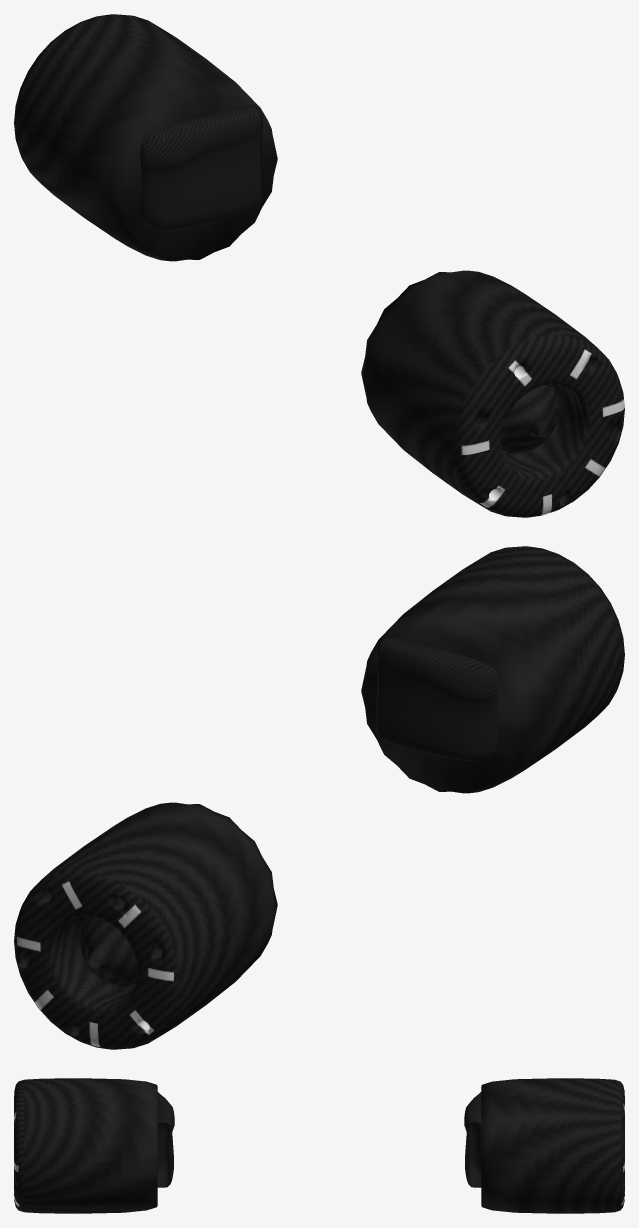
Rendered from WheelgyardR.fbx.
3 renders of one model, top to bottom at view 1: azimuth 30°, elevation 25°; view 2: azimuth 150°, elevation 25°; view 3: azimuth 270°, elevation 25°, orthographic. The views are drawn at different scales.
Visible parts, largest first — view 1: WheelgyardR; view 2: WheelgyardR; view 3: WheelgyardR.
Part boxes in pixels (<box>): WheelgyardR: <box>14,14,624,517</box>; WheelgyardR: <box>14,546,624,1049</box>; WheelgyardR: <box>14,1078,624,1213</box>.
Bounding box in the file's own units: 0.3908 × 0.3908 × 1.76.
